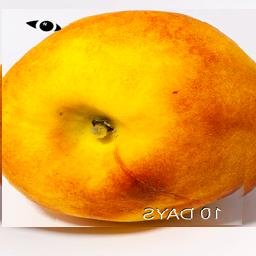Peach Semifresh: (2, 9, 256, 227)
